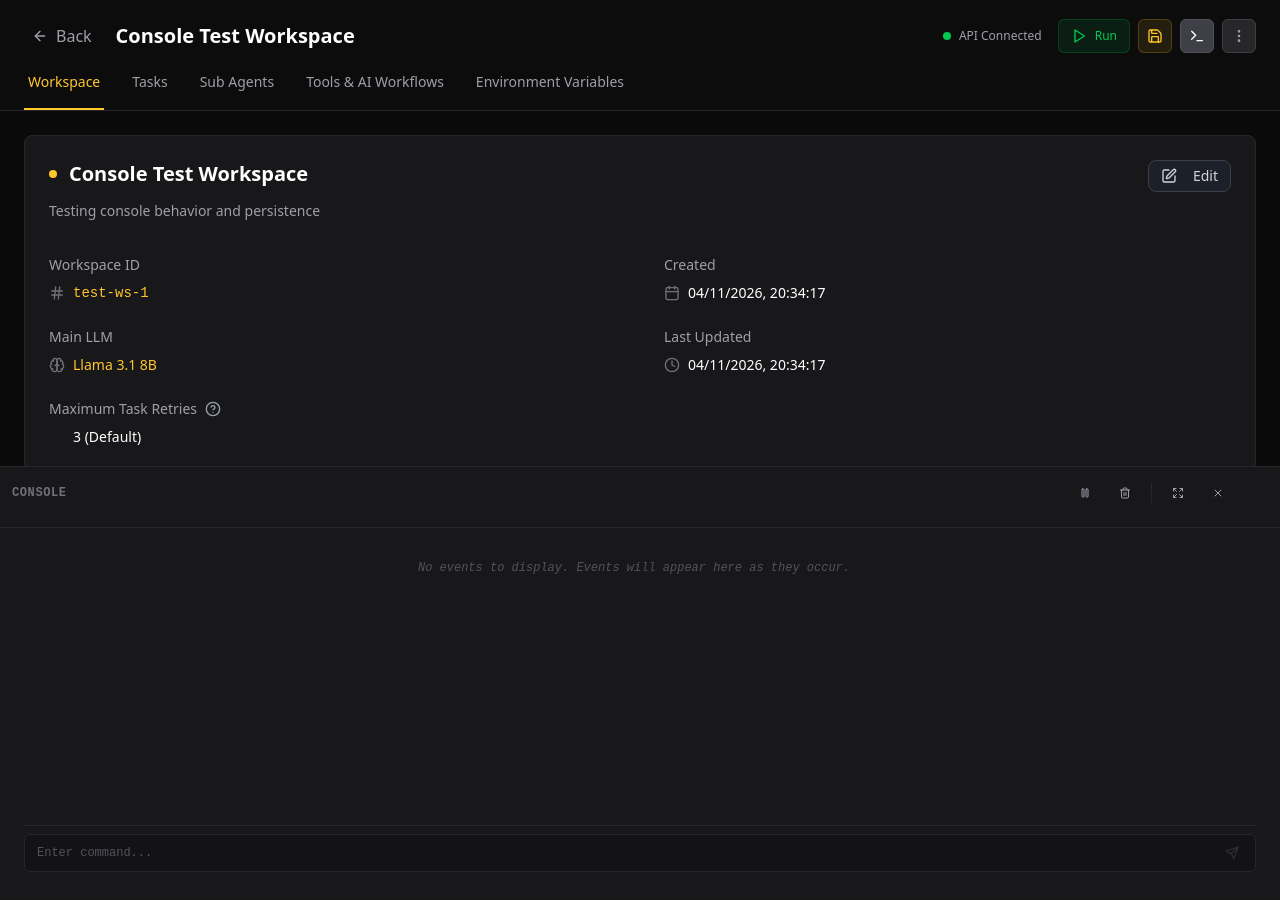
Test case: WorkspaceCanvas - Console Panel Consistency & Session Persistence › should toggle console closed and persist 'false' to sessionStorage when Terminal button is clicked
The image size is (1280, 900).
Click the button named "Close Console" at (1197, 36), box [1180, 19, 1214, 53]
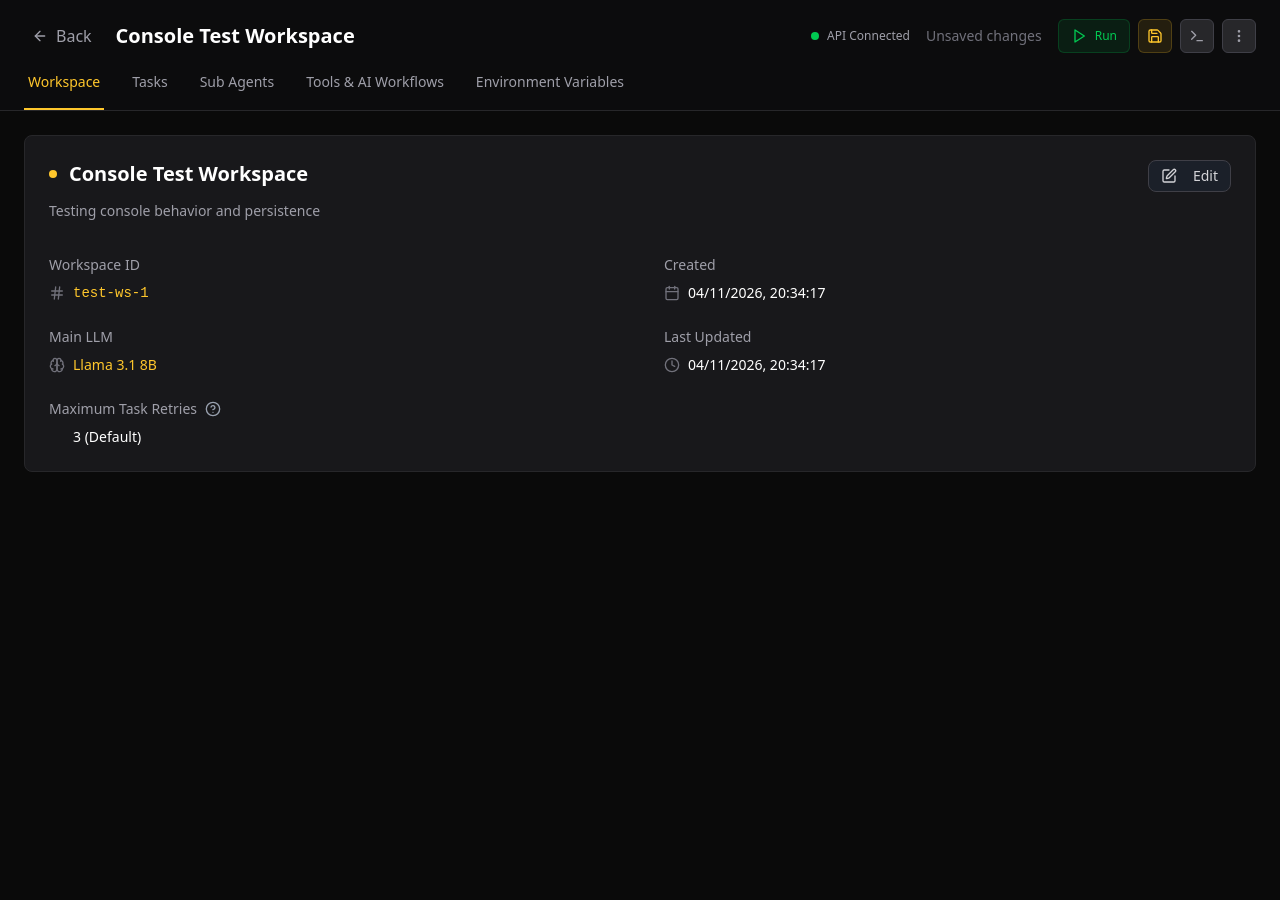
Expected: the button named "Open Console" is shown, [1180, 19, 1214, 53]
